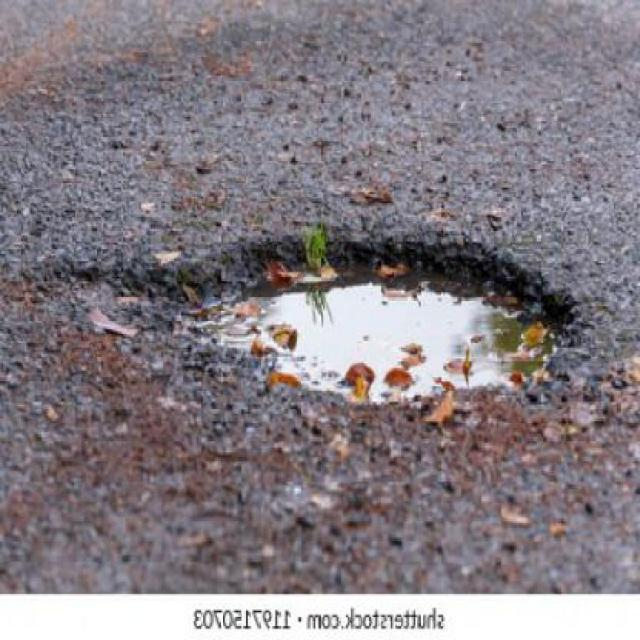Pothole: (47, 222, 582, 411)
